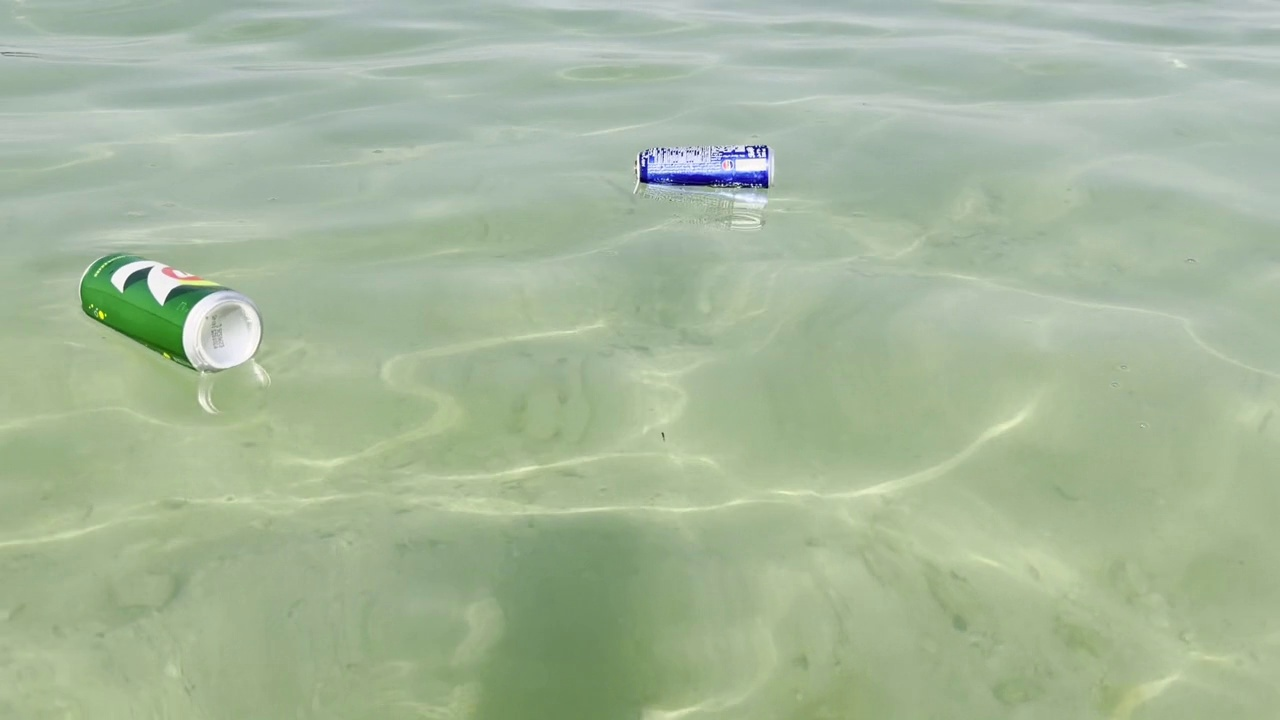debris: (67, 239, 273, 388), (629, 138, 786, 202)
